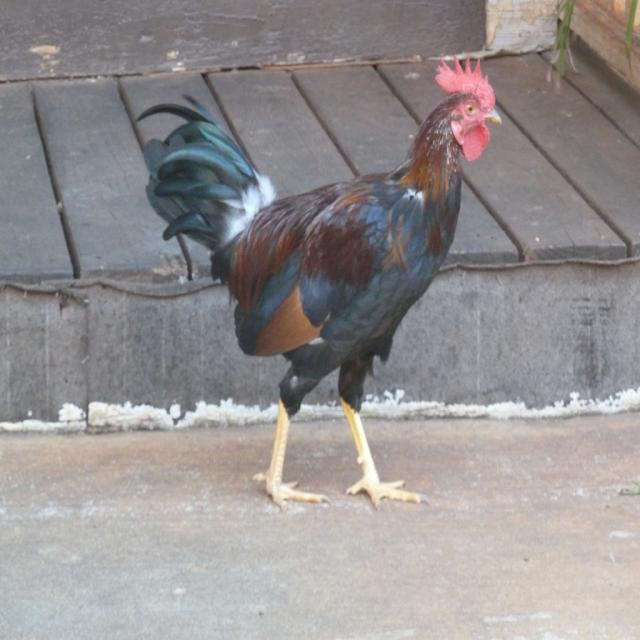Chicken: (112, 45, 510, 511)
